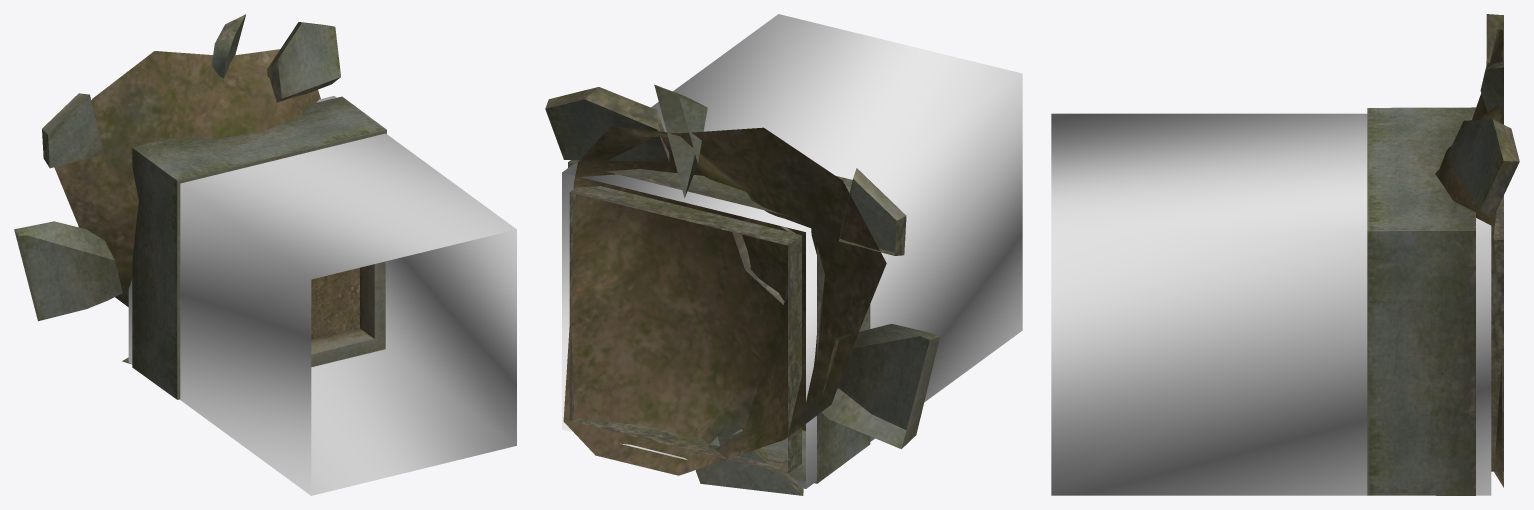
The model's file is hd_env406_Flowerbed.glb.
3 views of the same model, side by side, from view 1: azimuth 30°, elevation 25°; view 2: azimuth 150°, elevation 25°; view 3: azimuth 270°, elevation 25° (orthographic). The views are drawn at different scales.
Parts seen in each view (by area): view 1: set_0_group_0, set_0_group_1, set_0_group_2; view 2: set_0_group_1, set_0_group_0, set_0_group_2; view 3: set_0_group_0, set_0_group_2, set_0_group_1.
Part boxes in pixels (<box>): set_0_group_0: <box>128,96,516,495</box>; set_0_group_1: <box>14,14,340,363</box>; set_0_group_2: <box>132,96,386,399</box>; set_0_group_1: <box>545,84,940,495</box>; set_0_group_0: <box>562,14,1022,488</box>; set_0_group_2: <box>568,160,870,483</box>; set_0_group_0: <box>1051,113,1491,495</box>; set_0_group_2: <box>1367,107,1503,495</box>; set_0_group_1: <box>1435,14,1519,487</box>.
Size of the model in its own units: 1.75 by 1.71 by 1.83.
Materials: 3 (2 with a texture image).
